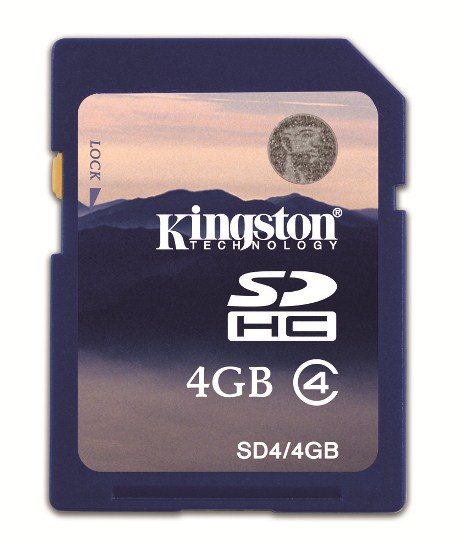Kingston: (149, 193, 349, 261)
